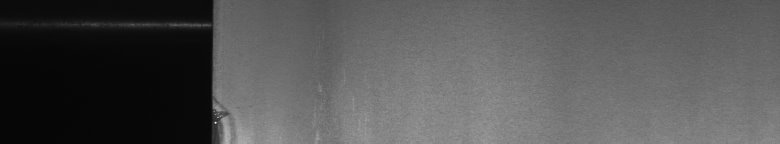hb: (220, 100, 241, 136)
